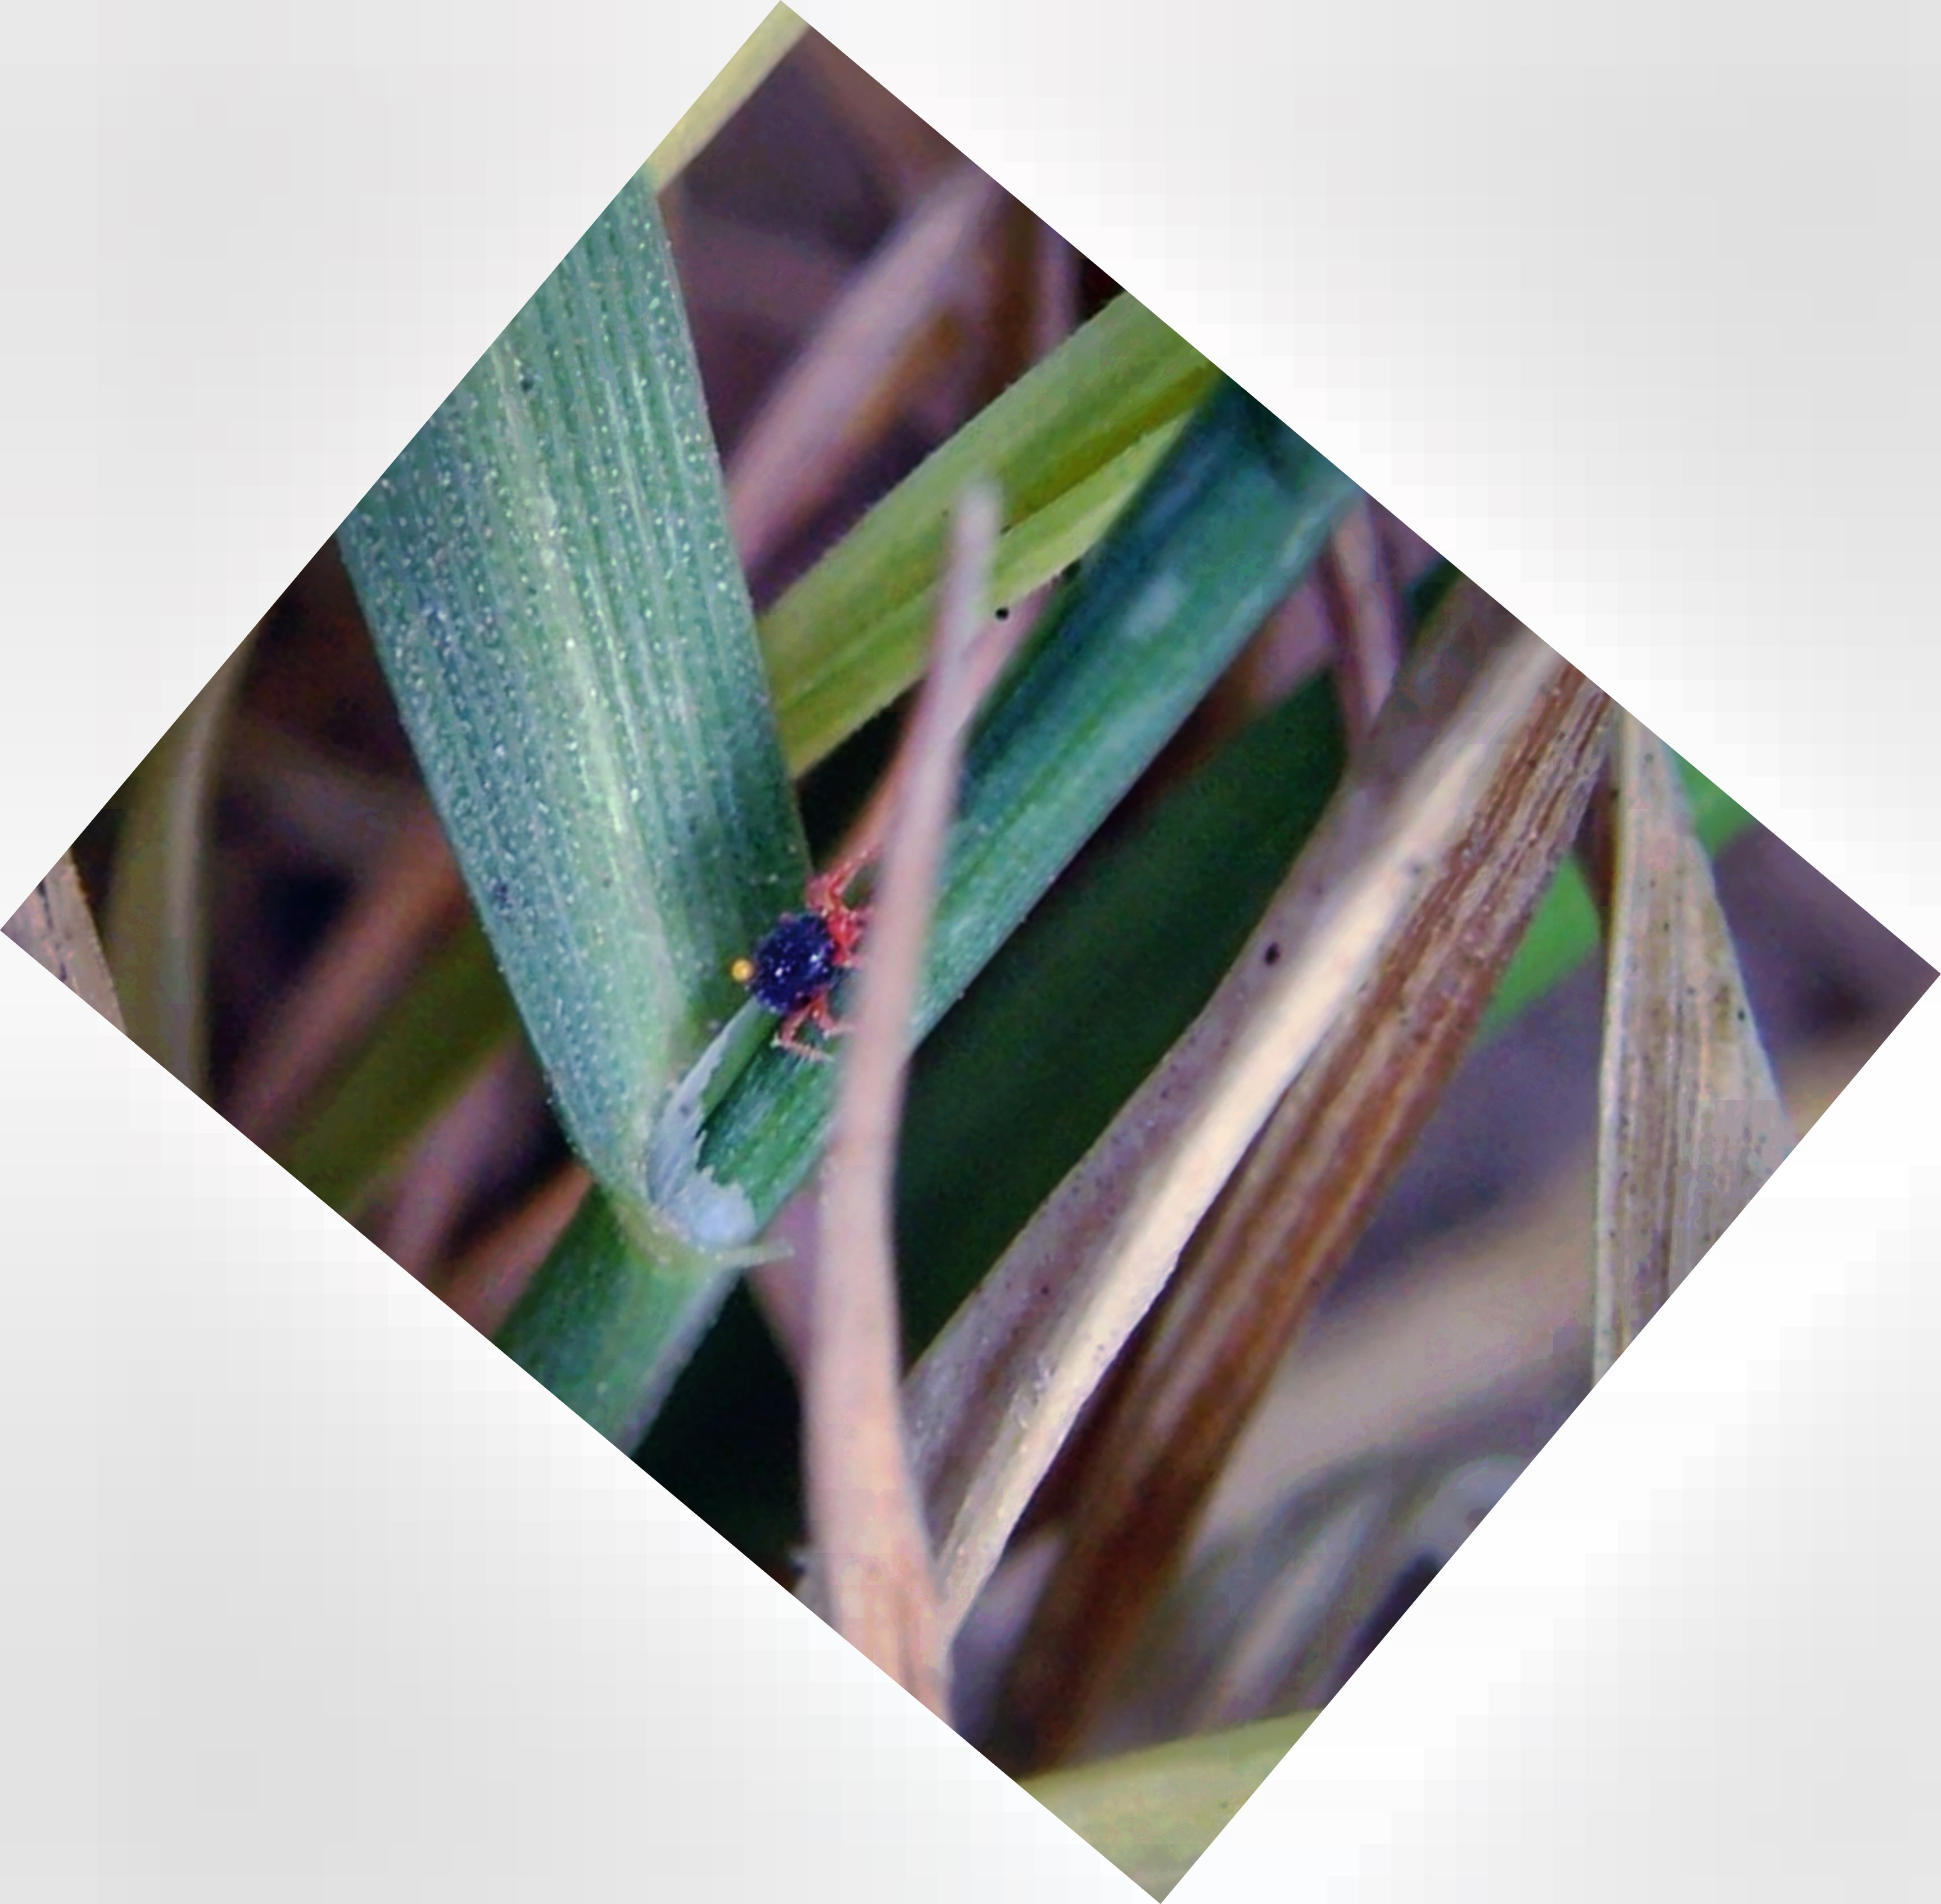Wheat Red Spider: (705, 846, 886, 1088)
